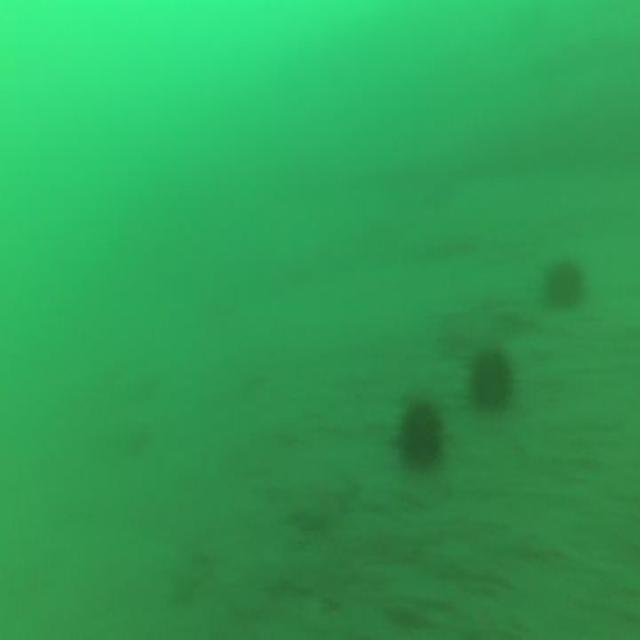echinus: (390, 380, 449, 472), (460, 337, 518, 425), (537, 248, 590, 321)
